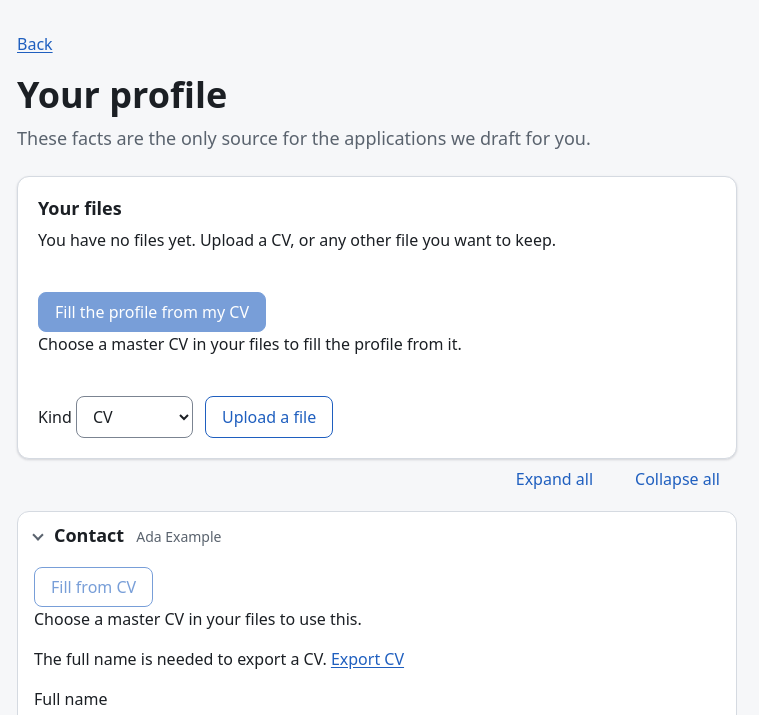
collapsible profile sections › opens the collapsed section of the first invalid field after a failed save and focuses it
Click the button "Collapse all": [678, 478] box [618,458,737,498]
(page scrolled)
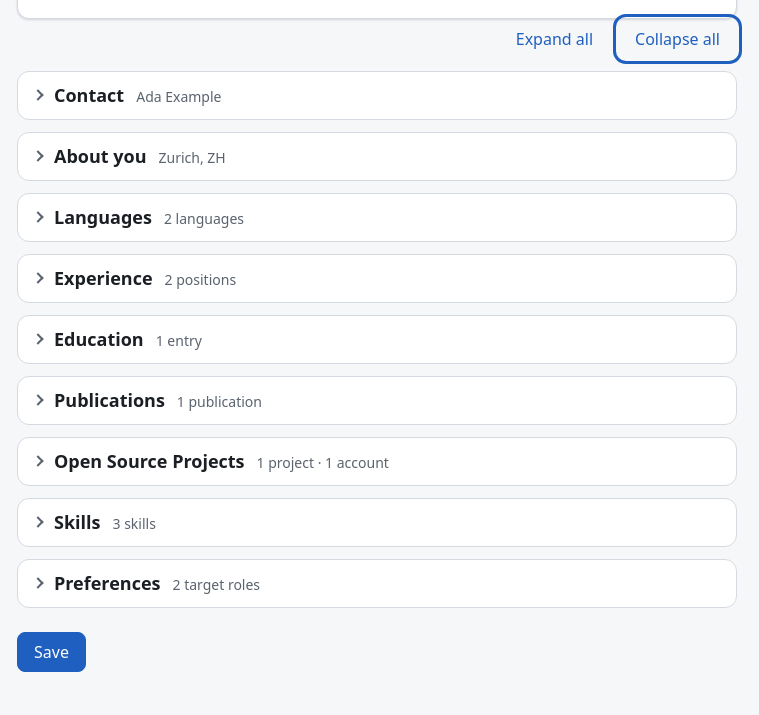
Click the button "Save": [51, 652] box [17,632,86,672]
(page scrolled)
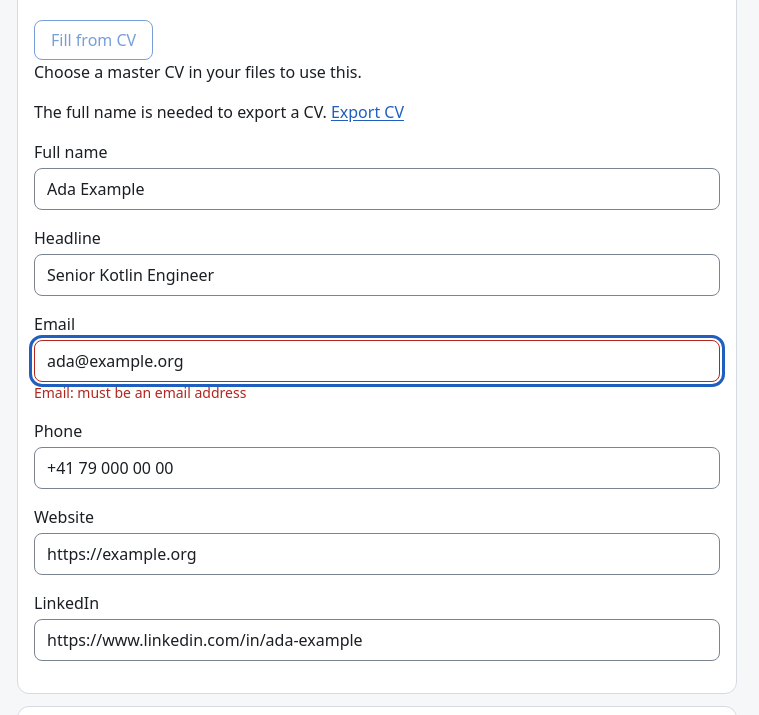
Expected: the text "Email: must be an email address" is shown, [34,382,246,402]
